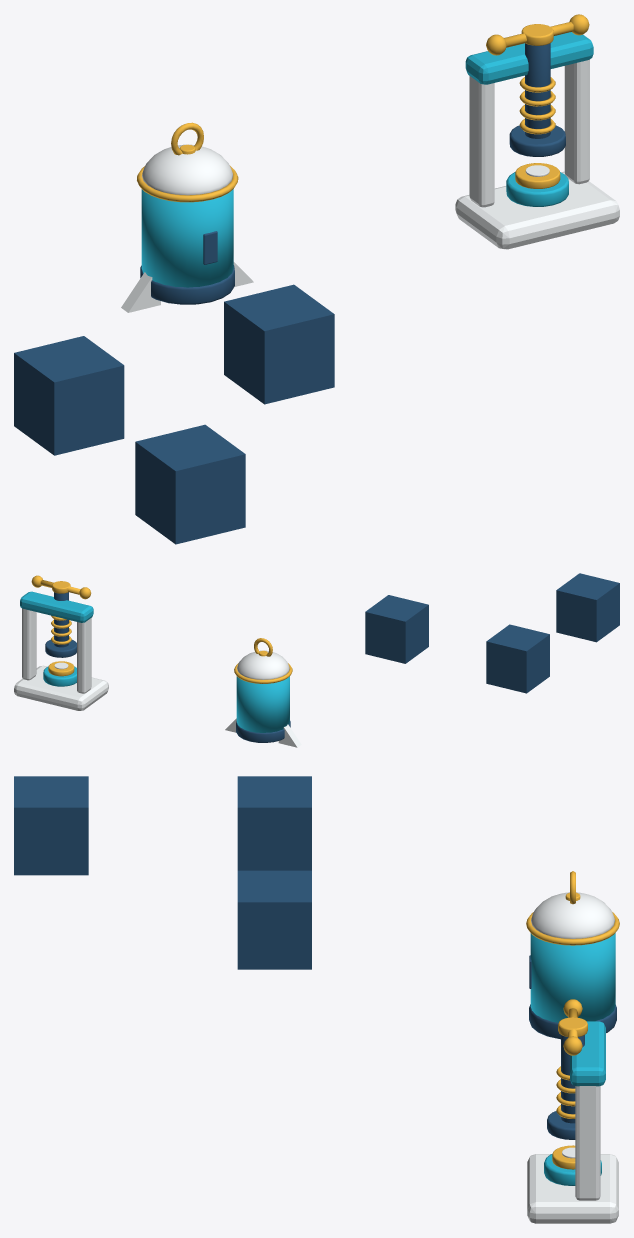
The model's file is catalog-partial-d9da0032-001.glb.
3 views of the same model, one above another, from view 1: azimuth 30°, elevation 25°; view 2: azimuth 150°, elevation 25°; view 3: azimuth 270°, elevation 25° (orthographic). The views are drawn at different scales.
Parts seen in each view (by area): view 1: coin_press__Fixed_pearl_06, catalog_partial_d9da0032_001__calibration_front, catalog_partial_d9da0032_001__calibration_origin, catalog_partial_d9da0032_001__calibration_right, burst_capsule__Fixed_teal_06, coin_press__Fixed_teal_08, burst_capsule__BurstCap_pearl_03, coin_press__PressScrew_dark_02, burst_capsule__Fixed_dark_01, coin_press__Crank_gold_03, burst_capsule__BurstCap_gold_02, coin_press__PressScrew_gold_05 (+2 smaller); view 2: coin_press__Fixed_pearl_06, catalog_partial_d9da0032_001__calibration_right, catalog_partial_d9da0032_001__calibration_front, catalog_partial_d9da0032_001__calibration_origin, burst_capsule__Fixed_teal_06, coin_press__Fixed_teal_08, burst_capsule__BurstCap_pearl_03, coin_press__PressScrew_dark_02, coin_press__Crank_gold_03, burst_capsule__BurstCap_gold_02, burst_capsule__Fixed_dark_01, coin_press__PressScrew_gold_05 (+2 smaller); view 3: catalog_partial_d9da0032_001__calibration_front, catalog_partial_d9da0032_001__calibration_right, coin_press__Fixed_pearl_06, catalog_partial_d9da0032_001__calibration_origin, burst_capsule__Fixed_teal_06, burst_capsule__BurstCap_pearl_03, coin_press__Fixed_teal_08, coin_press__PressScrew_dark_02, coin_press__Crank_gold_03, burst_capsule__BurstCap_gold_02, burst_capsule__Fixed_dark_01.
Boxes of the visible parts, x1,y1,x2,y2 form: coin_press__Fixed_pearl_06: [455, 59, 619, 249]; catalog_partial_d9da0032_001__calibration_front: [135, 424, 245, 544]; catalog_partial_d9da0032_001__calibration_origin: [14, 336, 124, 455]; catalog_partial_d9da0032_001__calibration_right: [224, 284, 334, 404]; burst_capsule__Fixed_teal_06: [141, 189, 233, 287]; coin_press__Fixed_teal_08: [465, 32, 593, 206]; burst_capsule__BurstCap_pearl_03: [142, 144, 232, 195]; coin_press__PressScrew_dark_02: [509, 43, 565, 156]; burst_capsule__Fixed_dark_01: [140, 231, 234, 304]; coin_press__Crank_gold_03: [486, 14, 589, 55]; burst_capsule__BurstCap_gold_02: [137, 122, 238, 202]; coin_press__PressScrew_gold_05: [519, 77, 555, 134]; coin_press__Fixed_pearl_06: [14, 608, 108, 710]; catalog_partial_d9da0032_001__calibration_right: [365, 595, 428, 663]; catalog_partial_d9da0032_001__calibration_front: [556, 573, 619, 642]; catalog_partial_d9da0032_001__calibration_origin: [486, 624, 549, 693]; burst_capsule__Fixed_teal_06: [236, 676, 289, 732]; coin_press__Fixed_teal_08: [20, 591, 93, 686]; burst_capsule__BurstCap_pearl_03: [237, 650, 289, 679]; coin_press__PressScrew_dark_02: [45, 592, 76, 657]; coin_press__Crank_gold_03: [31, 575, 91, 599]; burst_capsule__BurstCap_gold_02: [234, 638, 292, 683]; burst_capsule__Fixed_dark_01: [236, 721, 290, 742]; coin_press__PressScrew_gold_05: [51, 615, 71, 644]; catalog_partial_d9da0032_001__calibration_front: [14, 776, 88, 875]; catalog_partial_d9da0032_001__calibration_right: [237, 870, 311, 969]; coin_press__Fixed_pearl_06: [527, 1086, 618, 1223]; catalog_partial_d9da0032_001__calibration_origin: [237, 776, 311, 870]; burst_capsule__Fixed_teal_06: [530, 933, 615, 1022]; burst_capsule__BurstCap_pearl_03: [531, 892, 614, 938]; coin_press__Fixed_teal_08: [544, 1021, 605, 1185]; coin_press__PressScrew_dark_02: [547, 1035, 584, 1139]; coin_press__Crank_gold_03: [558, 999, 587, 1055]; burst_capsule__BurstCap_gold_02: [526, 871, 619, 945]; burst_capsule__Fixed_dark_01: [529, 955, 616, 1039].
Bounding box in the file's own units: 2.9 × 0.7504 × 2.28.
